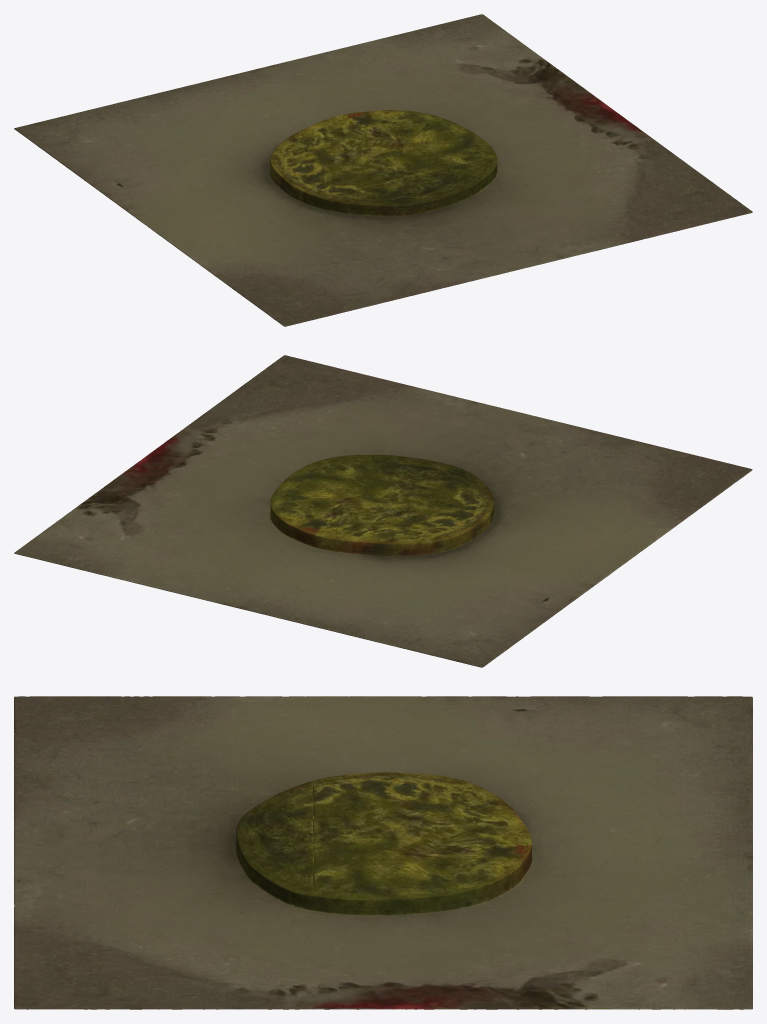
The model's file is decapolis-coin.glb.
The picture shows the model from 3 angles, top to bottom: view 1: azimuth 30°, elevation 25°; view 2: azimuth 150°, elevation 25°; view 3: azimuth 270°, elevation 25°; orthographic projection. The views are drawn at different scales.
Visible parts, largest first — view 1: world; view 2: world; view 3: world.
Boxes of the visible parts, box(x1,y1,x2,y2) form: world: box(14, 14, 752, 326); world: box(14, 355, 752, 667); world: box(14, 696, 752, 1009).
Bounding box in the file's own units: 1 × 0.0282 × 1.
Materials: 1 (1 with a texture image).
